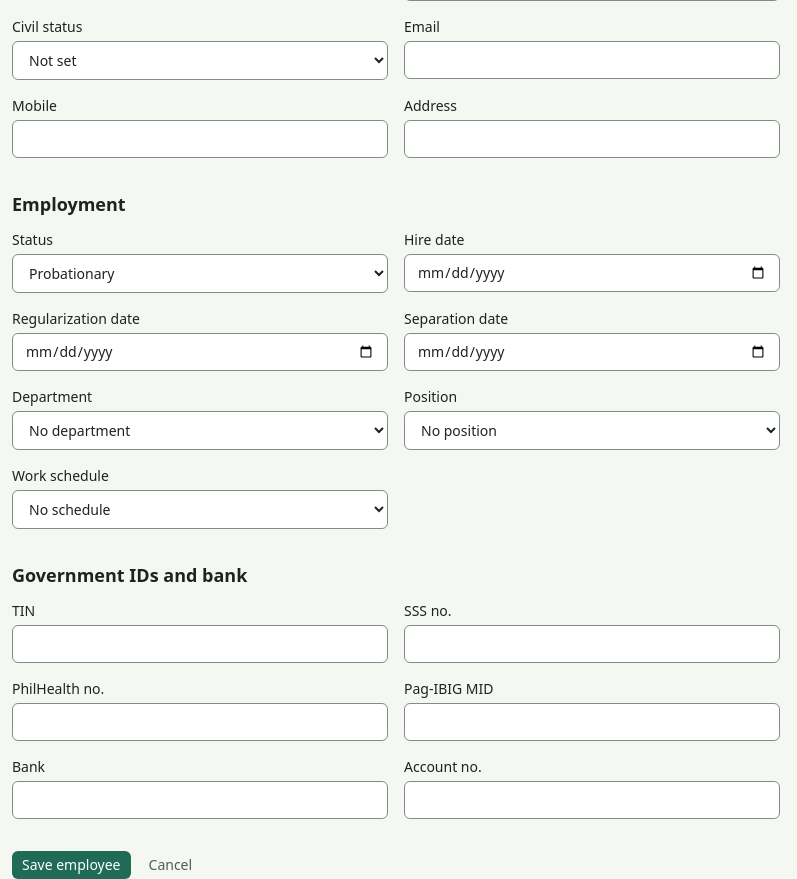
Scenario: EmployeeFormPage › points at missing and malformed fields before saving
(page scrolled)
In the field labelled "SSS no.": (592, 644) [404, 625, 780, 663], type "12-345"
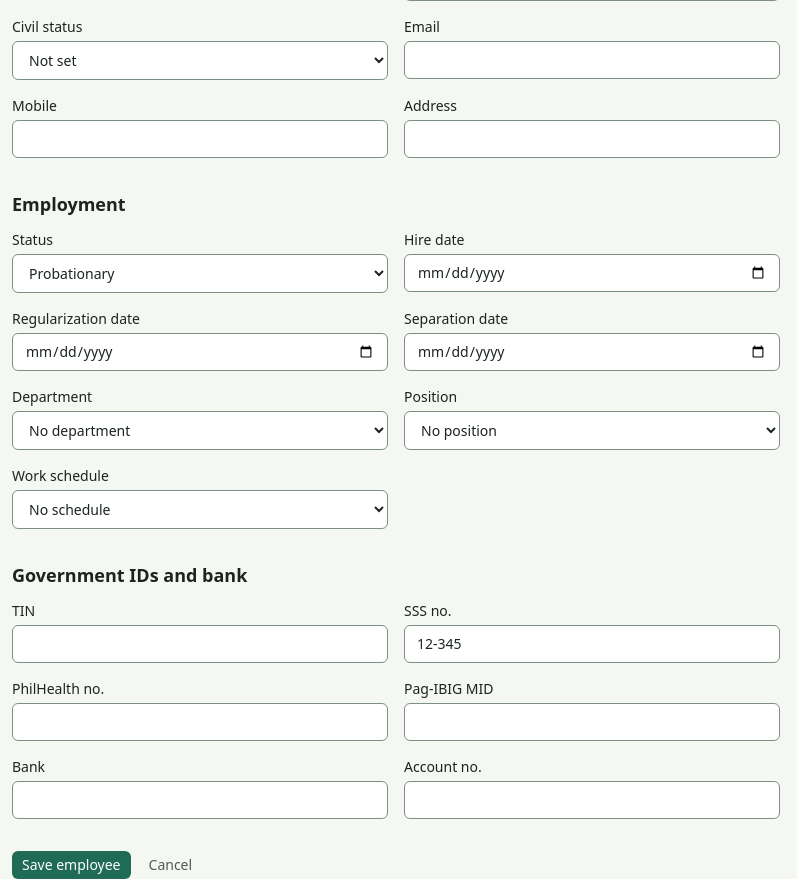
Click the button "Save employee": (71, 865) [12, 851, 130, 878]
(page scrolled)
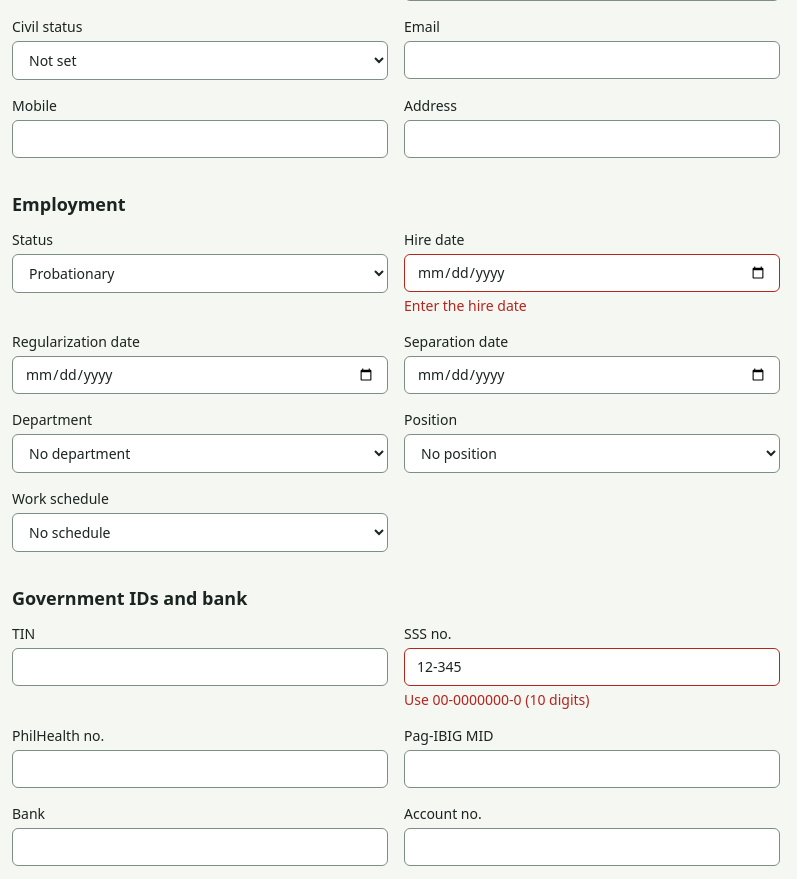
Now the text "Enter the hire date" is shown, box [404, 296, 527, 315]
Now the text "Use 00-0000000-0 (10 digits)" is shown, box [404, 690, 590, 709]
